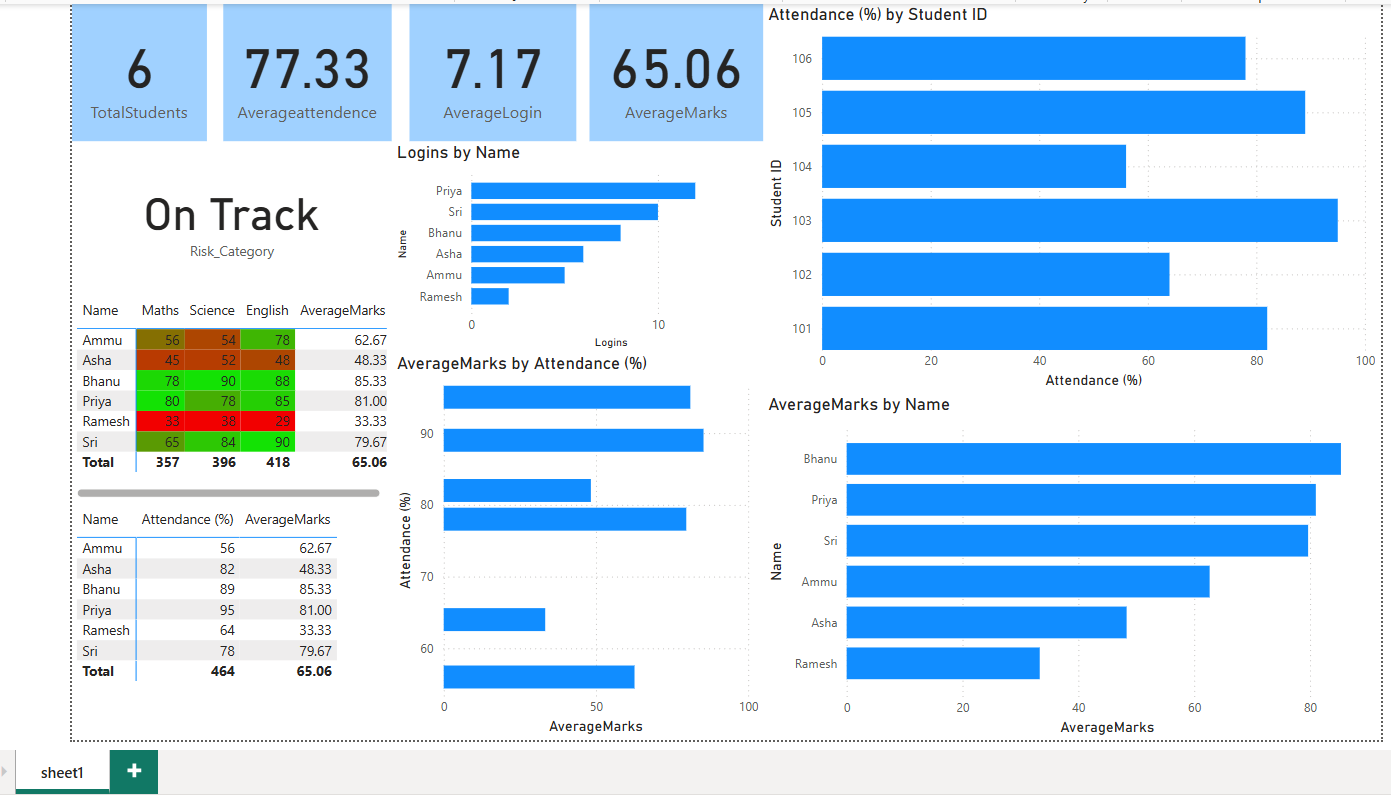

Layout of this report page (visuals, bound fields, positions):
{"tool":"powerbi","page":{"name":"sheet1 ","canvas":[1280,720],"ordinal":0},"visuals":[{"type":"card","fields":{"Values":["Sheet1.TotalStudents"]},"box":[0,0,131.7,134.5],"z":0},{"type":"card","fields":{"Values":["Sheet1.Averageattendence"]},"box":[148.2,0,164.7,134.5],"z":1000},{"type":"card","fields":{"Values":["Sheet1.AverageLogin"]},"box":[330.7,0,163.3,134.5],"z":2000},{"type":"clusteredBarChart","fields":{"Category":["Sheet1.Name"],"Y":["Sheet1.AverageMarks"]},"box":[676.5,381.5,603.8,338.9],"z":3000},{"type":"card","fields":{"Values":["Sheet1.AverageMarks"]},"box":[506.3,0,170.2,134.5],"z":4000},{"type":"barChart","fields":{"Category":["Sheet1.Student ID"],"Y":["Sheet1.Attendance (%)"]},"box":[676.5,0,603.8,381.5],"z":5000},{"type":"barChart","fields":{"Category":["Sheet1.Name"],"Y":["Sheet1.Logins "]},"box":[312.9,134.5,363.6,207.2],"z":6000},{"type":"pivotTable","fields":{"Rows":["Sheet1.Name"],"Values":["Sheet1.Math","Sheet1.Science","Sheet1.English","Sheet1.AverageMarks"]},"box":[0,284,312.9,204.5],"z":7000},{"type":"pivotTable","fields":{"Values":["Sheet1.Attendance (%)","Sheet1.AverageMarks"],"Rows":["Sheet1.Name"]},"box":[0,488.5,312.9,231.9],"z":8000},{"type":"card","fields":{"Values":["Sheet1.Risk_Category"]},"box":[0,134.5,312.9,149.6],"z":9000},{"type":"barChart","fields":{"Y":["Sheet1.AverageMarks"],"Category":["Sheet1.Attendance (%)"]},"box":[312.9,341.7,363.6,378.7],"z":11000}]}

Visuals, with their boxes on the page's 1280x720 design canvas (x1, y1, x2, y2). These are canvas units, not pixel positions in the 1391x795 screenshot, which may show the page scaled, cropped or inside an application window:
card - Sheet1.TotalStudents: (x1=0, y1=0, x2=132, y2=134)
card - Sheet1.Averageattendence: (x1=148, y1=0, x2=313, y2=134)
card - Sheet1.AverageLogin: (x1=331, y1=0, x2=494, y2=134)
clusteredBarChart - Sheet1.Name x Sheet1.AverageMarks: (x1=676, y1=382, x2=1280, y2=720)
card - Sheet1.AverageMarks: (x1=506, y1=0, x2=676, y2=134)
barChart - Sheet1.Student ID x Sheet1.Attendance (%): (x1=676, y1=0, x2=1280, y2=382)
barChart - Sheet1.Name x Sheet1.Logins : (x1=313, y1=134, x2=676, y2=342)
pivotTable - Sheet1.Name x Sheet1.Math: (x1=0, y1=284, x2=313, y2=488)
pivotTable - Sheet1.Attendance (%) x Sheet1.AverageMarks: (x1=0, y1=488, x2=313, y2=720)
card - Sheet1.Risk_Category: (x1=0, y1=134, x2=313, y2=284)
barChart - Sheet1.AverageMarks x Sheet1.Attendance (%): (x1=313, y1=342, x2=676, y2=720)
